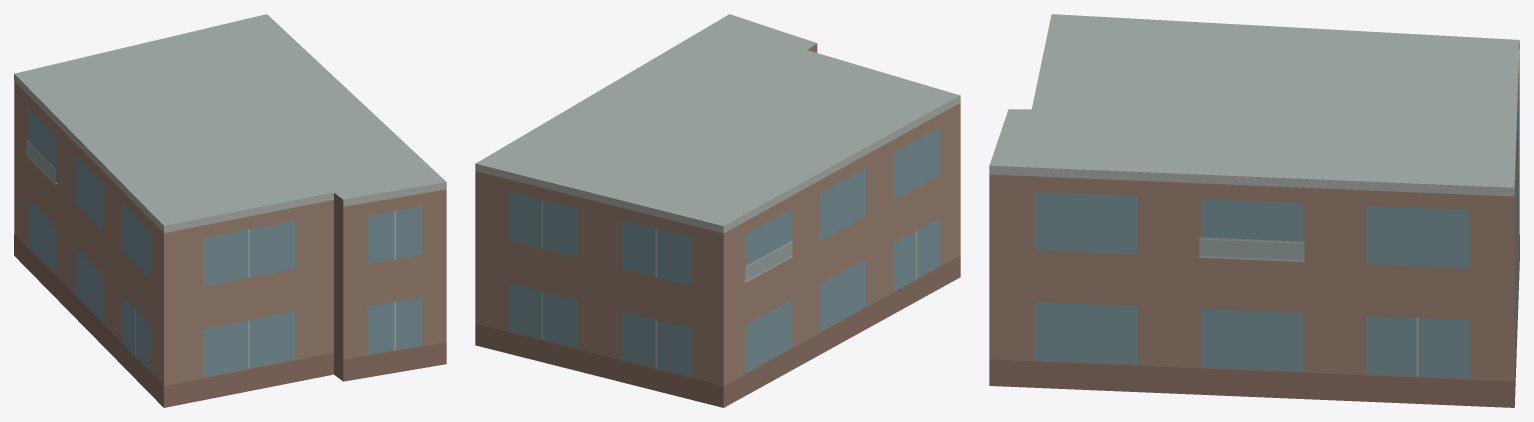
Rendered from survey-upis-32974820.glb.
3 renders of one model, left to right at view 1: azimuth 30°, elevation 25°; view 2: azimuth 150°, elevation 25°; view 3: azimuth 270°, elevation 25°, orthographic. The views are drawn at different scales.
Parts seen in each view (by area): view 1: survey-upis-32974820.tmp; view 2: survey-upis-32974820.tmp; view 3: survey-upis-32974820.tmp.
Boxes of the visible parts, left/top/right/bottom form: survey-upis-32974820.tmp: left=14, top=14, right=446, bottom=407; survey-upis-32974820.tmp: left=475, top=14, right=960, bottom=407; survey-upis-32974820.tmp: left=989, top=14, right=1519, bottom=407.
Bounding box in the file's own units: 10.34 × 6.1 × 13.33.
